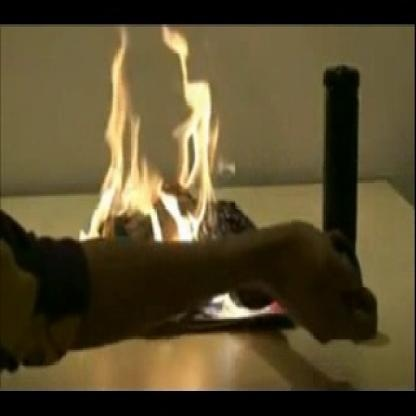fire: (101, 28, 234, 259)
